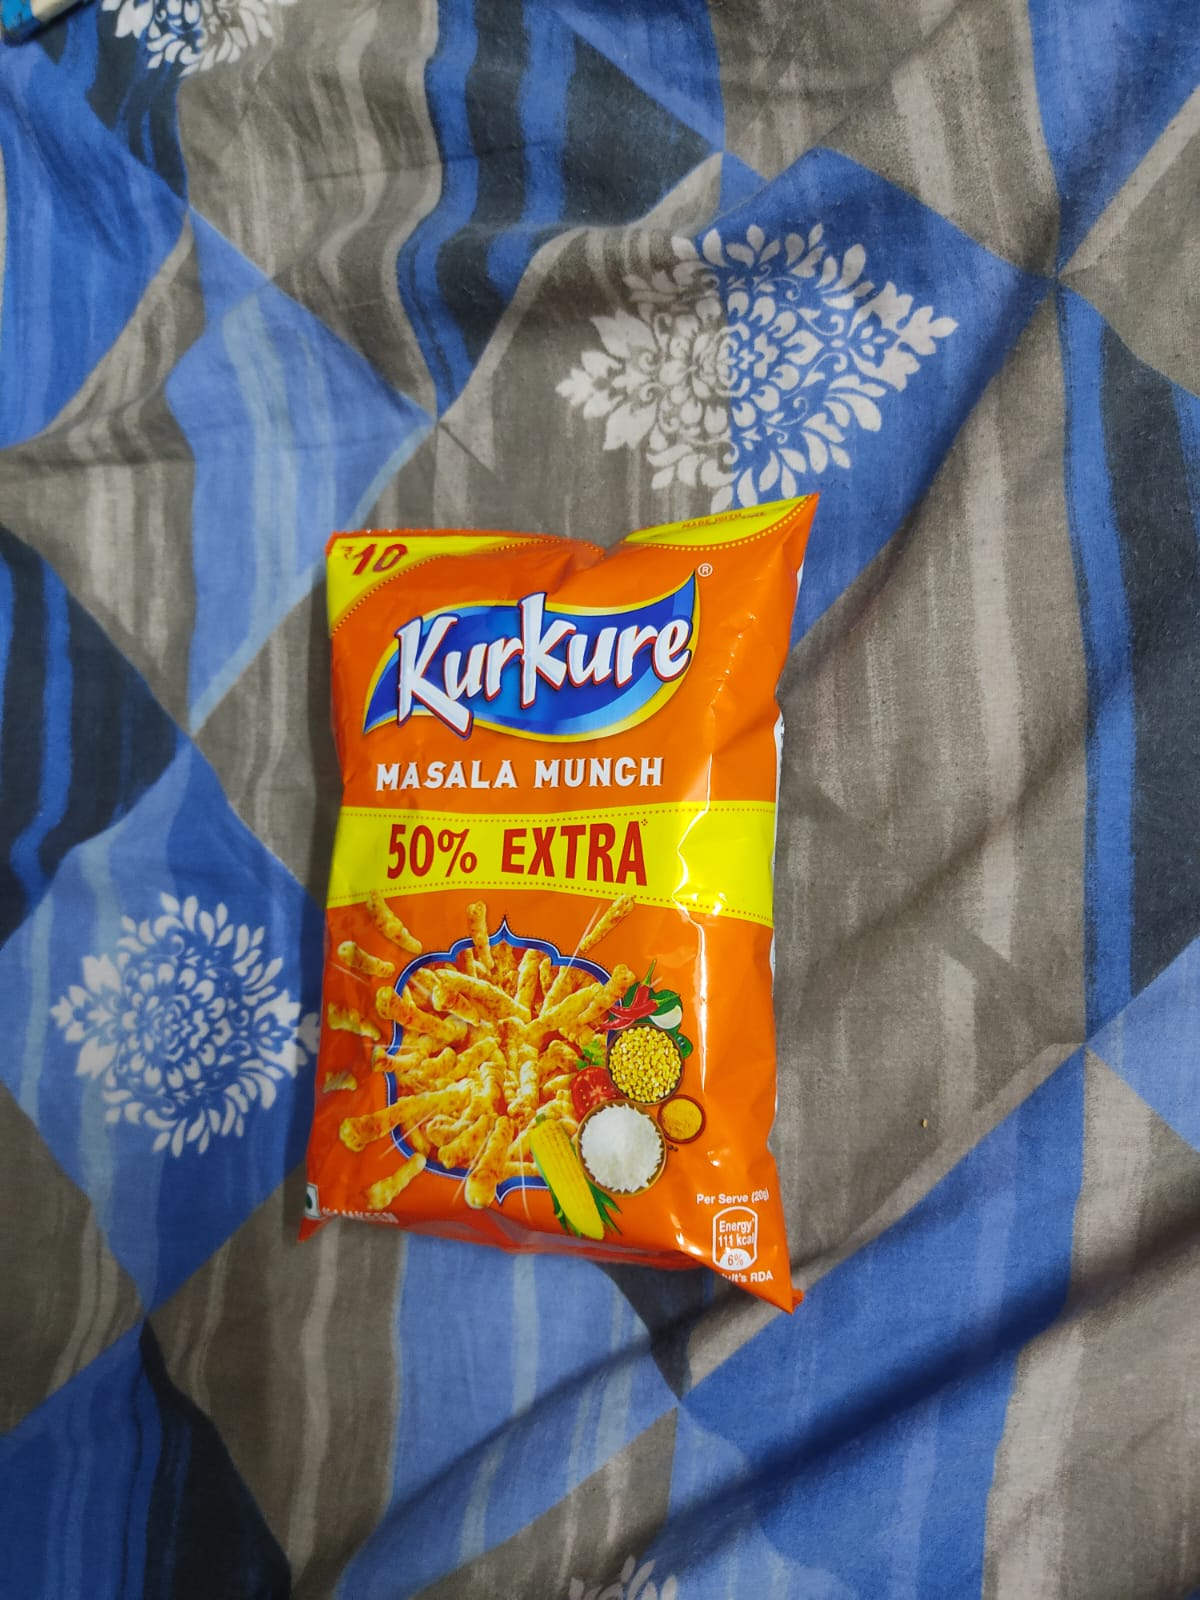010_Kurkure: (321, 527, 785, 1277)
